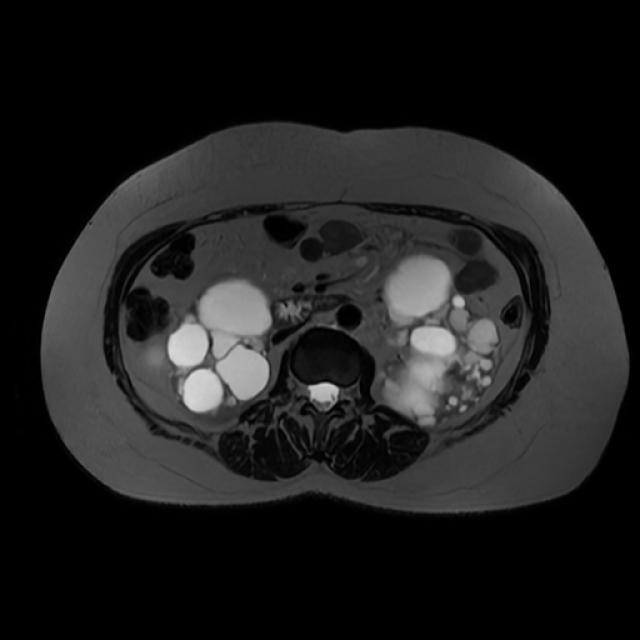sag: (166, 277, 271, 426)
sol: (383, 255, 499, 430)
